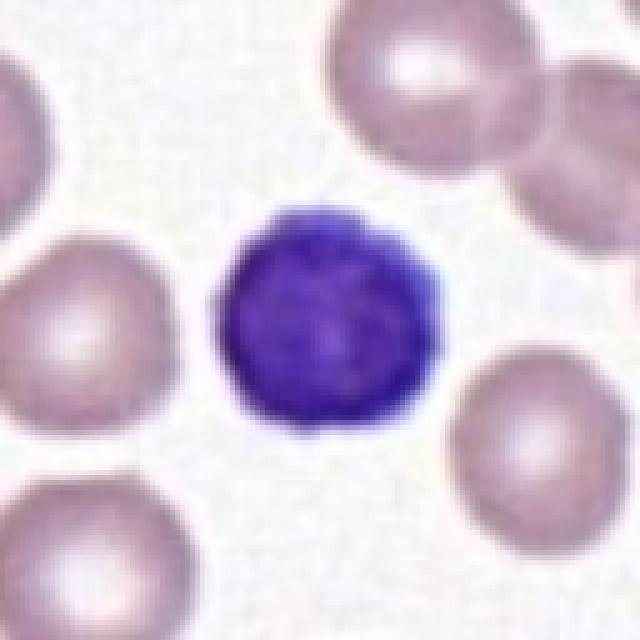lympho: (209, 201, 452, 435)
